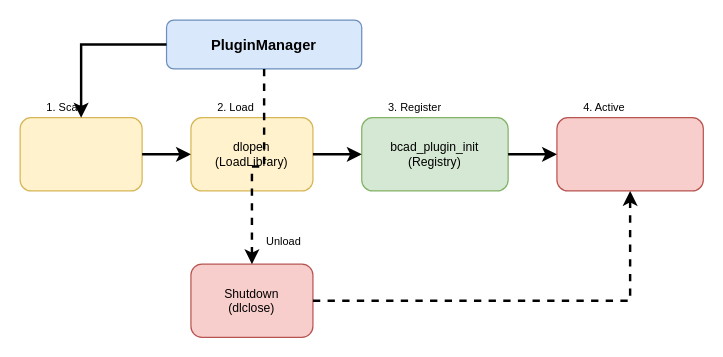
The diagram is 723 pixels wide and 357 high, and some of its shapes have lost their labels. Each missing label, with the centre of its shape:
"Discover (plugins/*/*.so)" goes at (x=80, y=154).
"Plugin (Entities, Commands, Serializers)" goes at (x=629, y=154).
